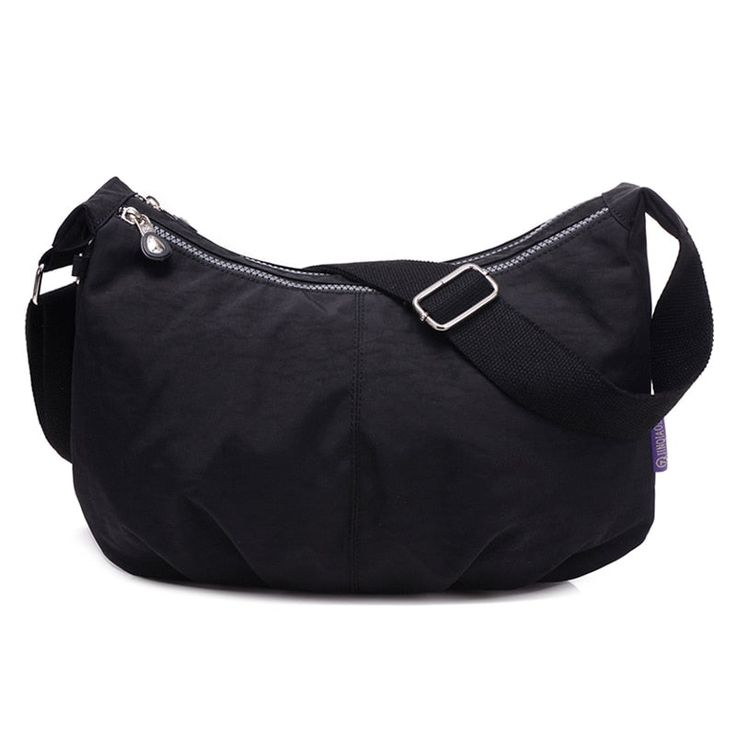nylon: (29, 176, 715, 597)
